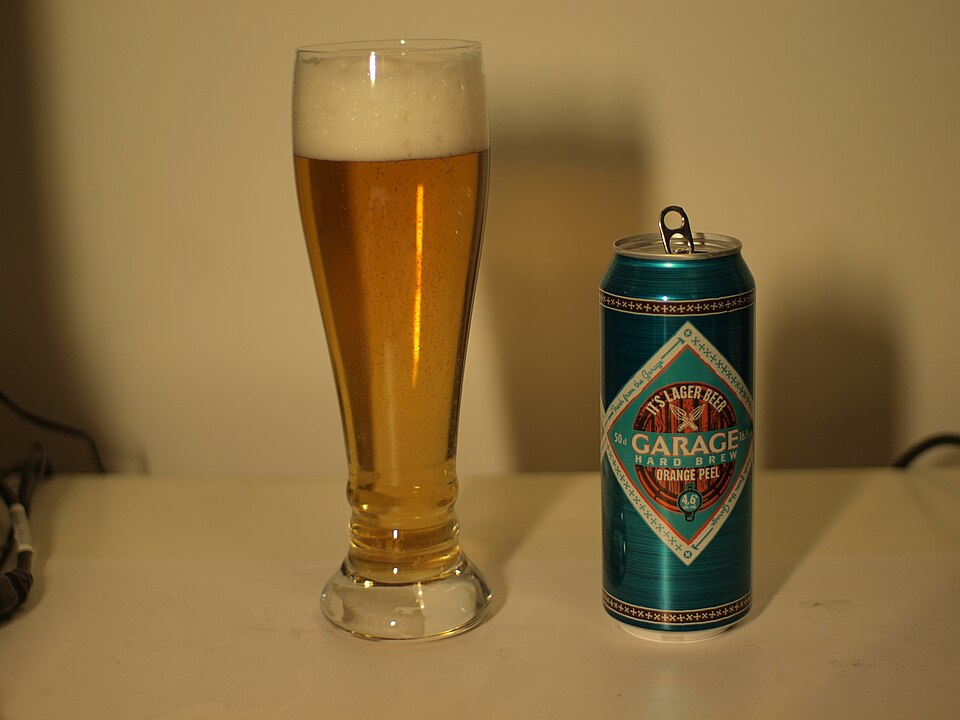beer-can: (592, 203, 764, 641)
